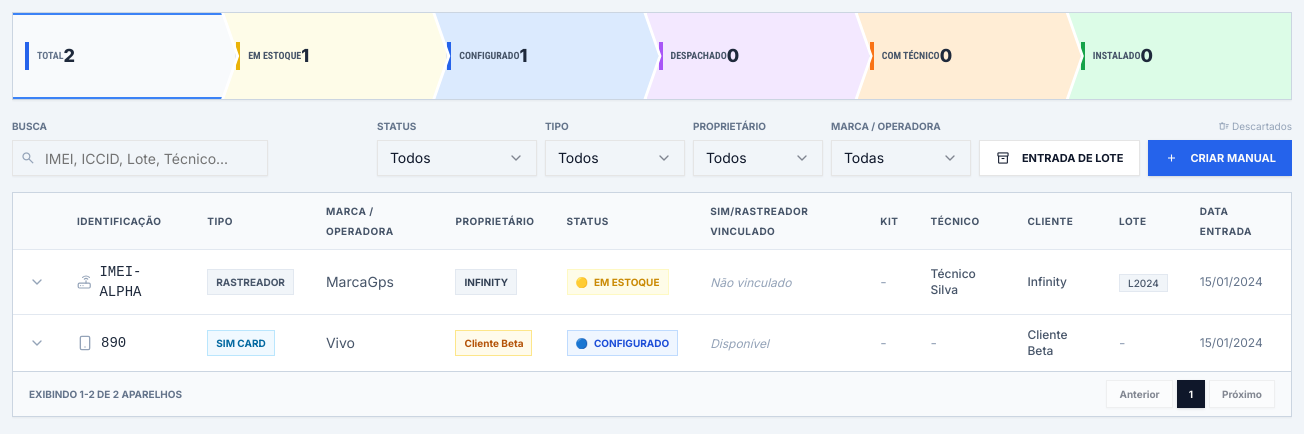
AparelhosPage (fluxo integrado) › clique no card de status filtra lista
The width and height of the screenshot is (1304, 434).
Expected: the row with test id "aparelho-row-1" is shown, [13,250,1291,314]
Step 1. Click the button with test id "aparelhos-status-configurado" → (547, 56), box [435,13,658,99]
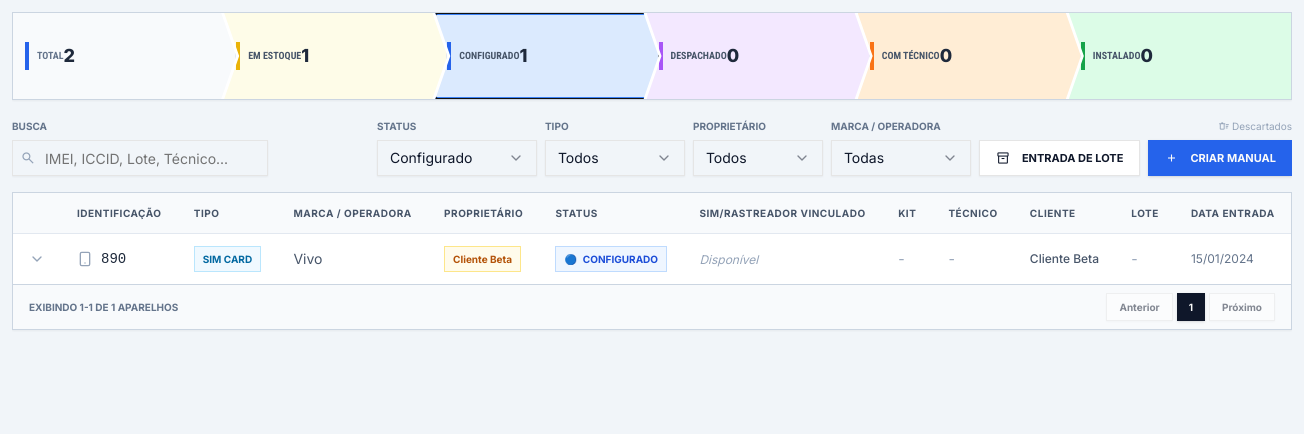
Expected: the row with test id "aparelho-row-2" is shown, [13,233,1291,284]
Now the row with test id "aparelho-row-1" is gone
